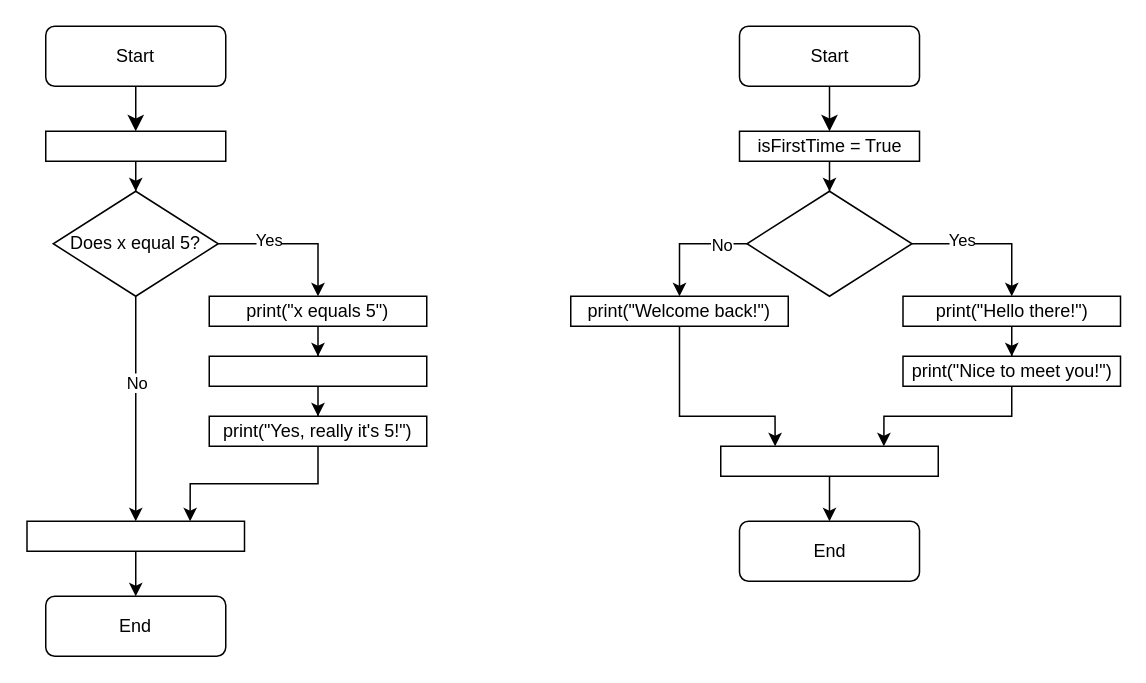
Some shapes in this 1146 by 683 pixel diagram are drawn without their labels. Each missing label, with the box of its shape:
Is first time?: (746, 190, 912, 296)
print("It totally is 5."): (208, 355, 427, 386)
print("Let's get started."): (719, 445, 938, 476)
print("This always runs"): (26, 520, 244, 551)
x = 5: (44, 130, 226, 161)
